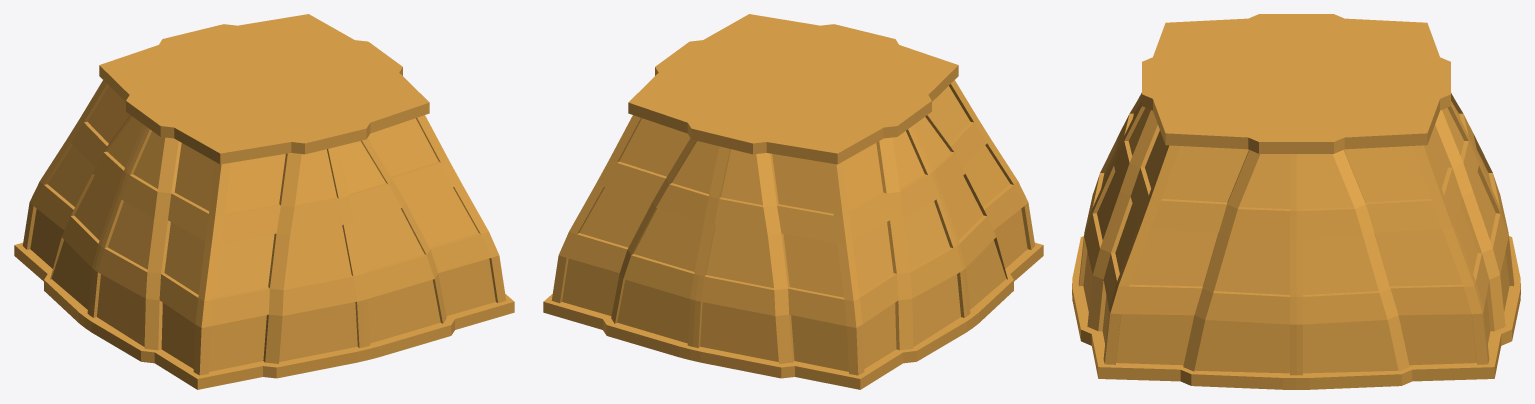
File: skyscraper2-part-shrinkage.fbx
3 renders of one model, left to right at view 1: azimuth 30°, elevation 25°; view 2: azimuth 150°, elevation 25°; view 3: azimuth 270°, elevation 25°, orthographic. The views are drawn at different scales.
Visible parts, largest first — view 1: skyscraper2-part-shrinkage; view 2: skyscraper2-part-shrinkage; view 3: skyscraper2-part-shrinkage.
Part boxes in pixels (x1,y1,x2,y2): skyscraper2-part-shrinkage: [14, 14, 514, 389]; skyscraper2-part-shrinkage: [543, 14, 1043, 389]; skyscraper2-part-shrinkage: [1072, 14, 1520, 389].
Size of the model in its own units: 20.6 by 11 by 20.6.
